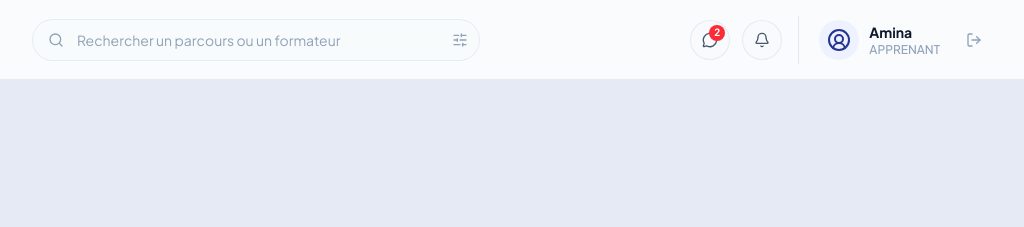
Test: Topbar › affiche les conversations dans le panneau messages
Click the button named "Ouvrir les messages" at (710, 40), box x1=690 y1=20 x2=730 y2=60
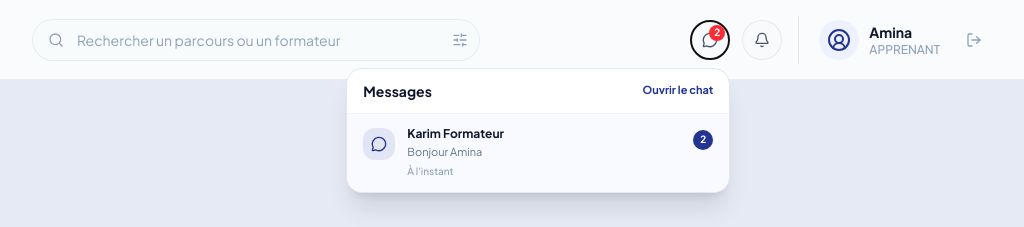
Check: the text "Karim Formateur" is shown, box x1=407 y1=126 x2=504 y2=140
Check: the text "Bonjour Amina" is shown, box x1=407 y1=144 x2=482 y2=158
Check: the button "Ouvrir le chat" is shown, box x1=642 y1=82 x2=713 y2=99
